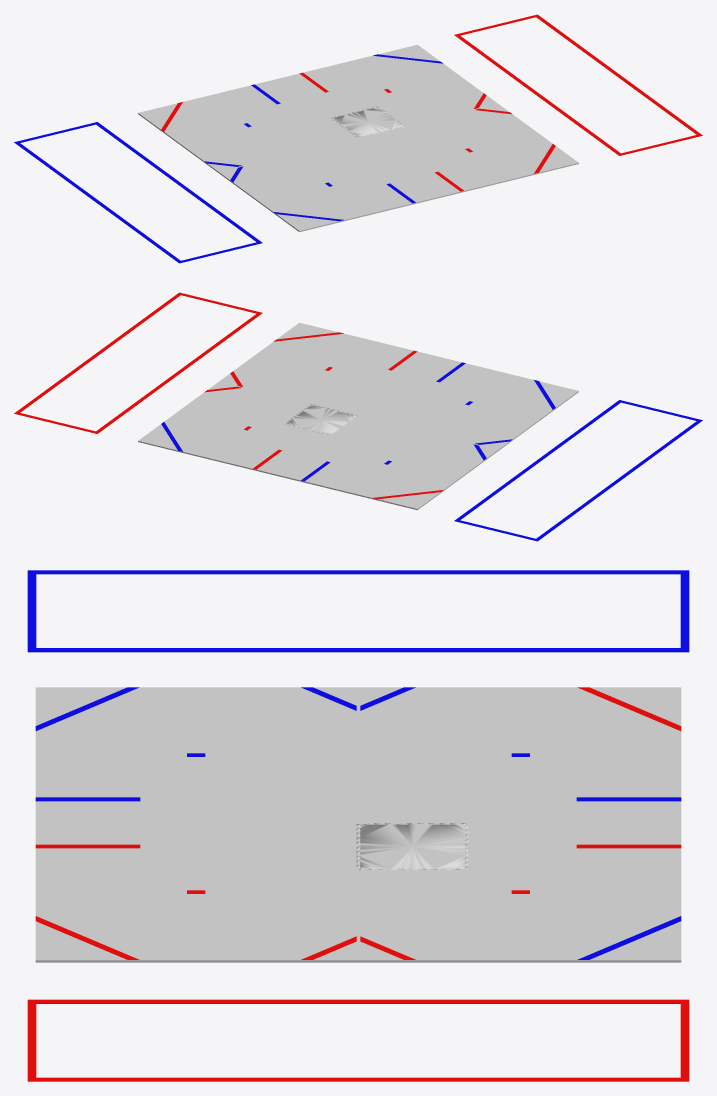
File: mats tape-25.fbx
3 views of the same model, one above another, from view 1: azimuth 30°, elevation 25°; view 2: azimuth 150°, elevation 25°; view 3: azimuth 270°, elevation 25° (orthographic). The views are drawn at different scales.
Parts seen in each view (by area): view 1: Body1.036, Body1.037, Body1.027, Body1.002, Body1.024, Body1.015, Body1.009, Body1.003, Body1.007, Body1.008, Body1.010, Body1.012 (+26 smaller); view 2: Body1.036, Body1.037, Body1.032, Body1.035, Body1.011, Body1.007, Body1.013, Body1.022, Body1.008, Body1.006, Body1.016, Body1.024 (+26 smaller); view 3: Body1.036, Body1.037, Body1.031, Body1.028, Body1.003, Body1.008, Body1.011, Body1.012, Body1.016, Body1.007, Body1.015, Body1.004 (+26 smaller).
Boxes of the visible parts, bbox=[...] form: Body1.036: bbox=[14, 122, 262, 263]; Body1.037: bbox=[454, 14, 702, 155]; Body1.027: bbox=[459, 154, 533, 186]; Body1.002: bbox=[318, 188, 392, 220]; Body1.024: bbox=[246, 180, 318, 212]; Body1.015: bbox=[264, 149, 338, 180]; Body1.009: bbox=[304, 86, 378, 118]; Body1.003: bbox=[405, 115, 479, 146]; Body1.007: bbox=[358, 126, 432, 157]; Body1.008: bbox=[331, 106, 405, 137]; Body1.010: bbox=[338, 157, 412, 188]; Body1.012: bbox=[284, 118, 358, 149]; Body1.036: bbox=[454, 400, 702, 541]; Body1.037: bbox=[14, 292, 262, 433]; Body1.032: bbox=[184, 432, 256, 464]; Body1.035: bbox=[325, 467, 397, 498]; Body1.011: bbox=[359, 396, 432, 427]; Body1.007: bbox=[312, 384, 384, 415]; Body1.013: bbox=[304, 435, 377, 466]; Body1.022: bbox=[398, 458, 471, 489]; Body1.008: bbox=[285, 404, 358, 435]; Body1.006: bbox=[339, 365, 412, 395]; Body1.016: bbox=[378, 427, 451, 458]; Body1.024: bbox=[479, 399, 552, 430]; Body1.036: bbox=[27, 570, 689, 652]; Body1.037: bbox=[27, 999, 689, 1081]; Body1.031: bbox=[465, 914, 576, 962]; Body1.028: bbox=[140, 914, 251, 962]; Body1.003: bbox=[248, 868, 360, 915]; Body1.008: bbox=[356, 823, 468, 870]; Body1.011: bbox=[248, 777, 360, 824]; Body1.012: bbox=[356, 777, 468, 824]; Body1.016: bbox=[356, 731, 468, 778]; Body1.007: bbox=[248, 823, 360, 870]; Body1.015: bbox=[248, 731, 360, 778]; Body1.004: bbox=[356, 868, 468, 915].
Bounding box in the file's own units: 669 × 1.58 × 366.
